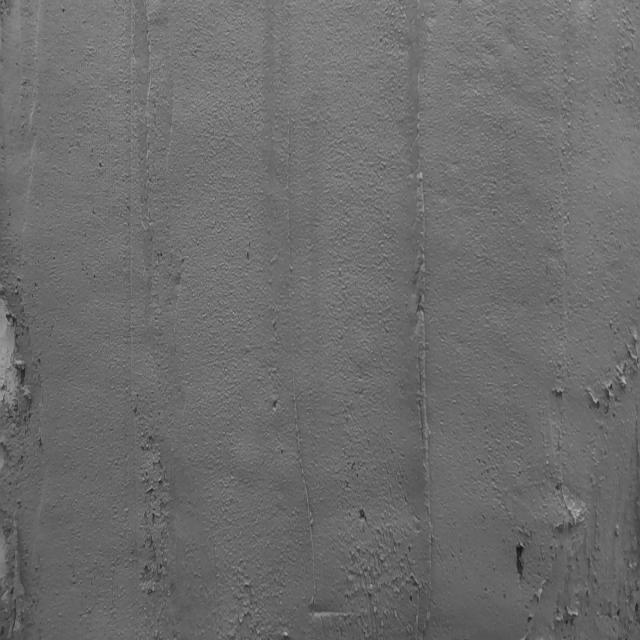trowels marks: (407, 2, 441, 640), (279, 102, 319, 614), (126, 3, 143, 583)
